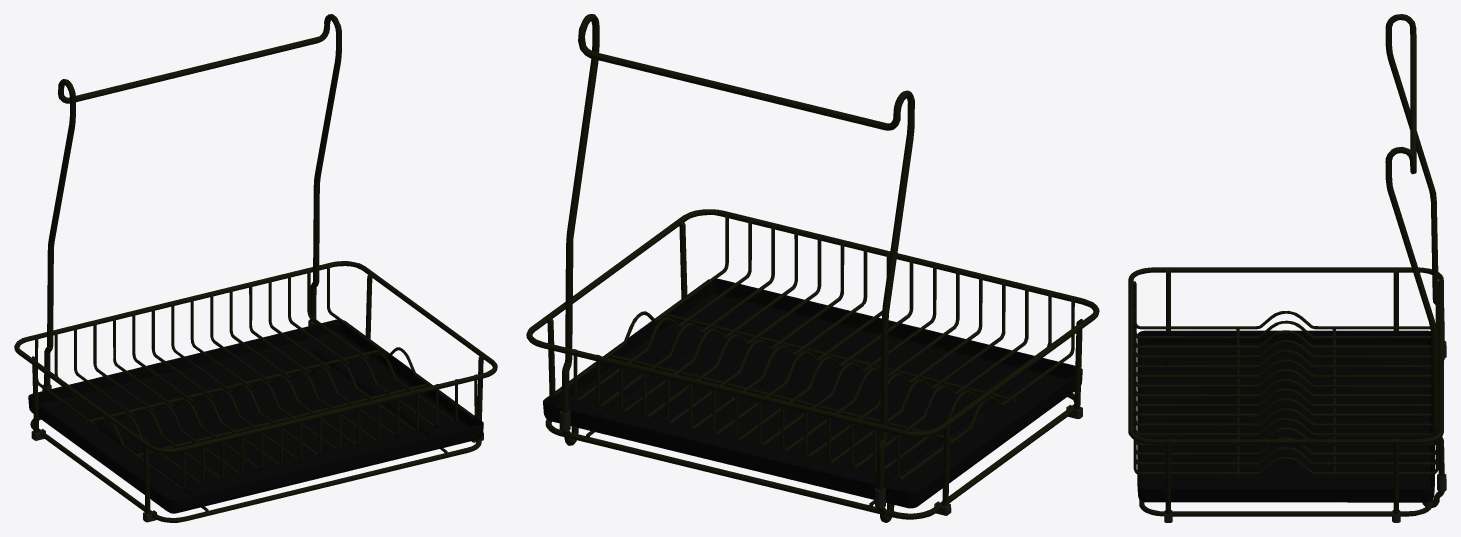
Rendered from hultarp_suszarka_do_naczyn_60448766.glb.
The picture shows the model from 3 angles, left to right: view 1: azimuth 30°, elevation 25°; view 2: azimuth 150°, elevation 25°; view 3: azimuth 270°, elevation 25°; orthographic projection. The views are drawn at different scales.
Visible parts, largest first — view 1: hultarp_suszarka_do_naczyn_60448766; view 2: hultarp_suszarka_do_naczyn_60448766; view 3: hultarp_suszarka_do_naczyn_60448766.
Boxes of the visible parts, x1,y1,x2,y2 form: hultarp_suszarka_do_naczyn_60448766: (14, 14, 497, 522); hultarp_suszarka_do_naczyn_60448766: (526, 14, 1099, 522); hultarp_suszarka_do_naczyn_60448766: (1128, 14, 1446, 522).
Bounding box in the file's own units: 0.3851 × 0.3719 × 0.2977.
1 material, 1 textured.
